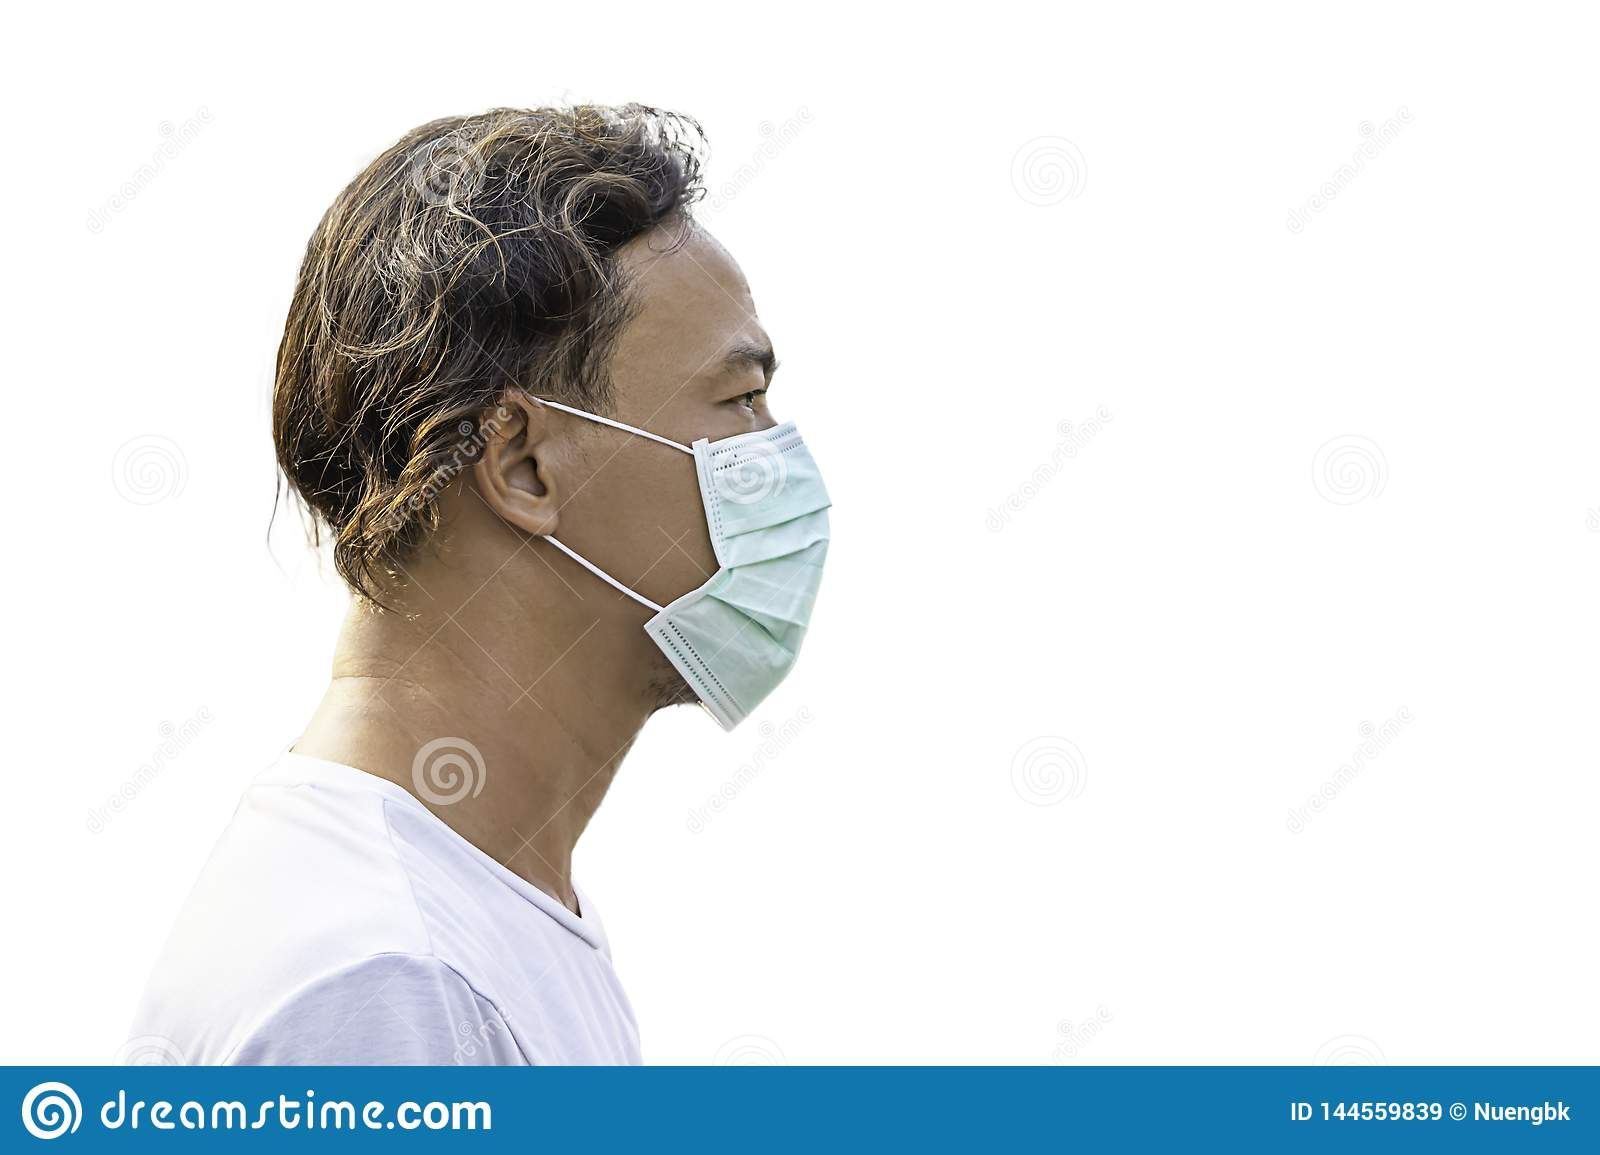mask: (648, 431, 831, 730)
